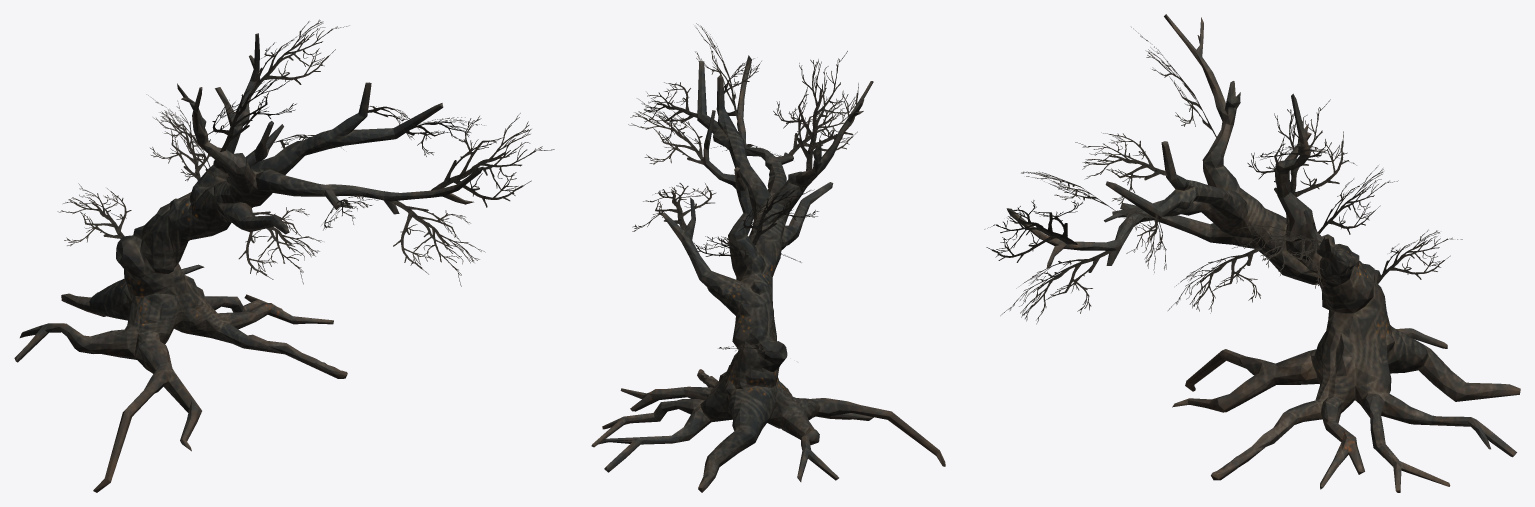
The model's file is tree2.glb.
3 views of the same model, side by side, from view 1: azimuth 30°, elevation 25°; view 2: azimuth 150°, elevation 25°; view 3: azimuth 270°, elevation 25° (orthographic). The views are drawn at different scales.
Parts seen in each view (by area): view 1: Model__tree2, Model__branches; view 2: Model__tree2, Model__branches; view 3: Model__tree2, Model__branches.
Boxes of the visible parts, x1,y1,x2,y2 form: Model__tree2: (14,33,483,492); Model__branches: (57,19,554,286); Model__tree2: (591,55,945,492); Model__branches: (628,23,862,354); Model__tree2: (1006,14,1520,492); Model__branches: (984,27,1462,324).
Bounding box in the file's own units: 4.12 × 4.35 × 4.89.
Materials: 2 (2 with a texture image).
